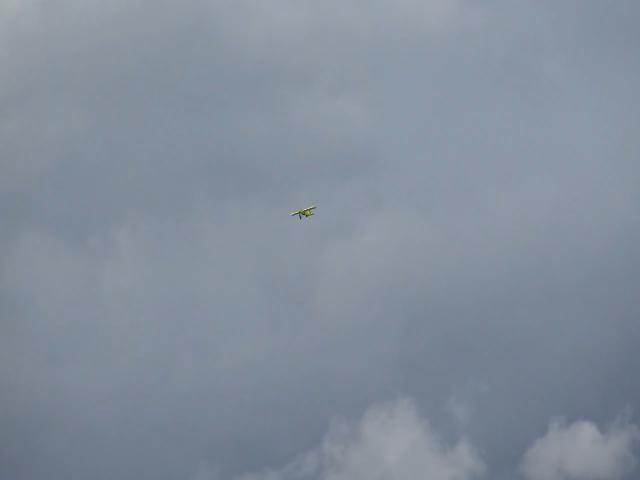plane: (288, 206, 318, 220)
